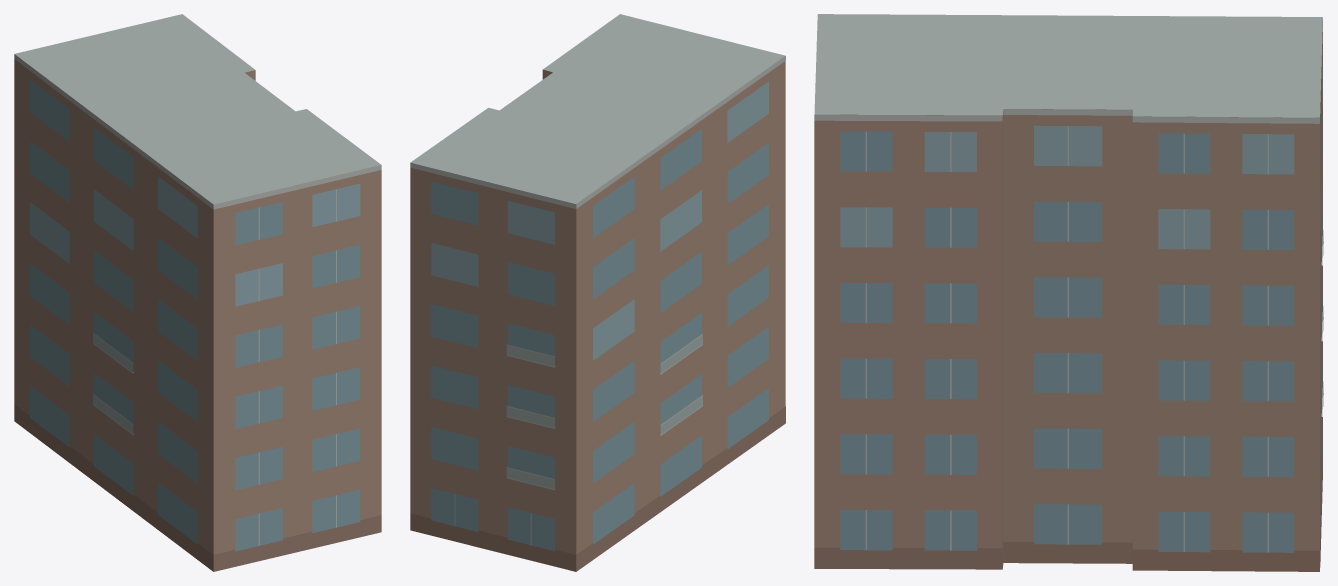
File: survey-upis-33009013.glb
3 views of the same model, side by side, from view 1: azimuth 30°, elevation 25°; view 2: azimuth 150°, elevation 25°; view 3: azimuth 270°, elevation 25° (orthographic). The views are drawn at different scales.
Parts seen in each view (by area): view 1: survey-upis-33009013.tmp; view 2: survey-upis-33009013.tmp; view 3: survey-upis-33009013.tmp.
Part boxes in pixels (x1,y1,x2,y2): survey-upis-33009013.tmp: (14, 14, 381, 571); survey-upis-33009013.tmp: (410, 14, 785, 571); survey-upis-33009013.tmp: (814, 14, 1323, 571).
Size of the model in its own units: 8.88 by 18.1 by 18.4.
